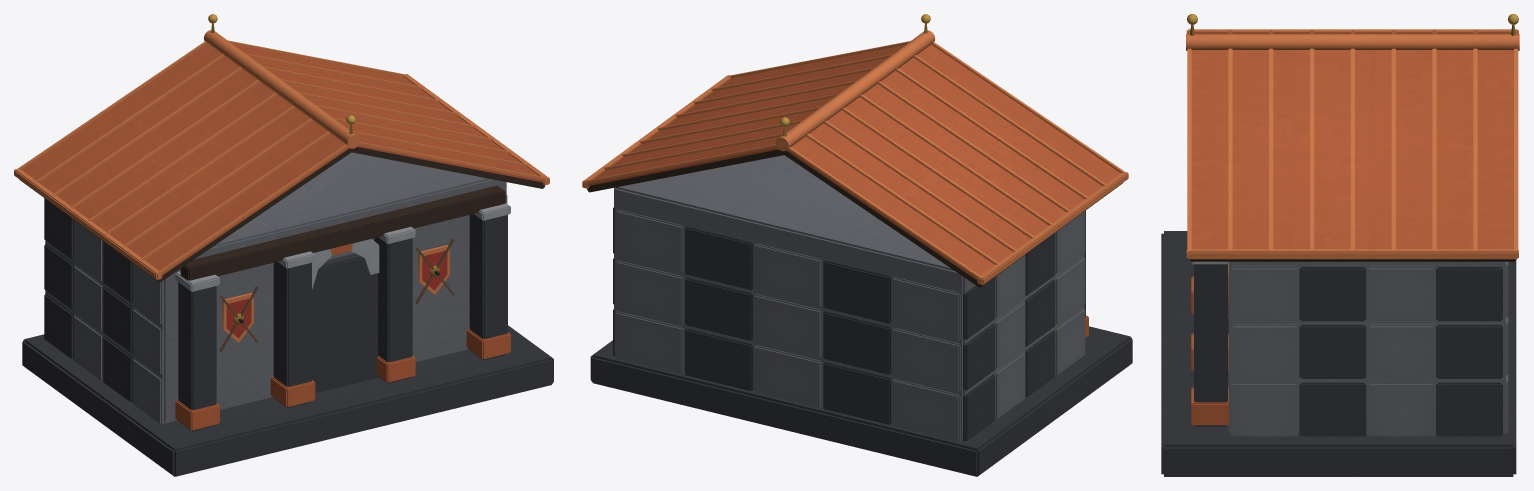
The model's file is barracks_drake_guard.glb.
The picture shows the model from 3 angles, left to right: view 1: azimuth 30°, elevation 25°; view 2: azimuth 150°, elevation 25°; view 3: azimuth 270°, elevation 25°; orthographic projection. The views are drawn at different scales.
Visible parts, largest first — view 1: barracks_drake_guard; view 2: barracks_drake_guard; view 3: barracks_drake_guard.
Boxes of the visible parts, left/top/right/bottom form: barracks_drake_guard: left=14, top=14, right=553, bottom=476; barracks_drake_guard: left=582, top=14, right=1132, bottom=476; barracks_drake_guard: left=1161, top=14, right=1519, bottom=476.
Bounding box in the file's own units: 7.44 × 5.53 × 5.05.
Materials: 1 (1 with a texture image).
